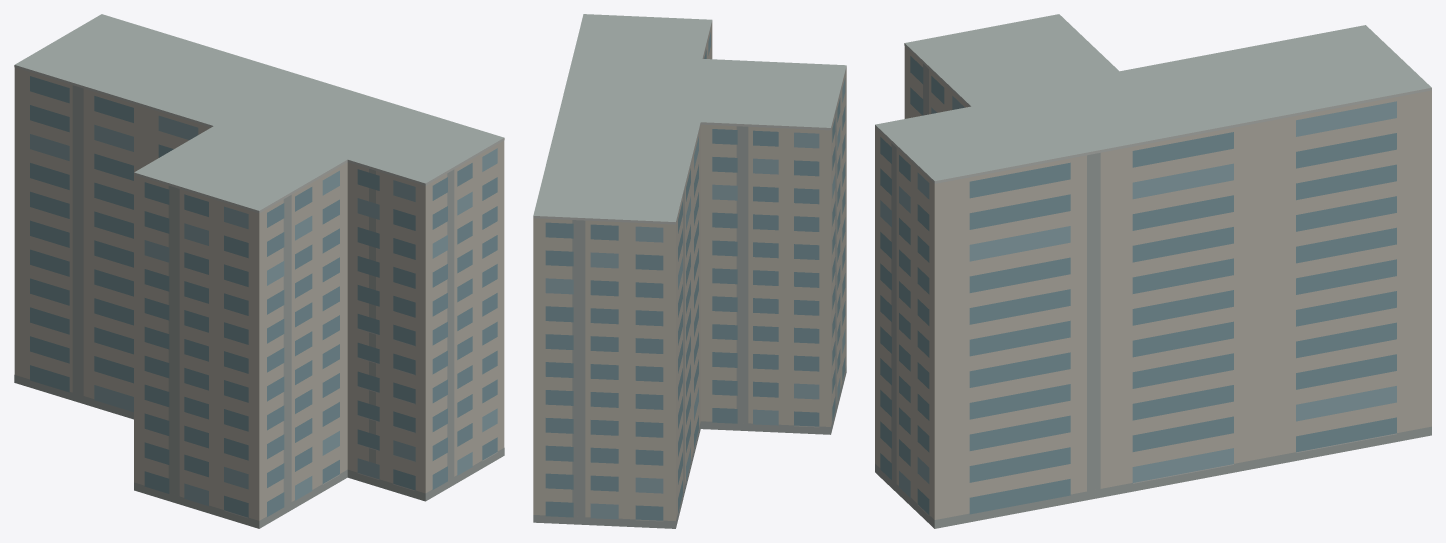
The model's file is residential-3763d846-9574-4ece-a881-51b40a4599d6.glb.
The picture shows the model from 3 angles, left to right: view 1: azimuth 30°, elevation 25°; view 2: azimuth 150°, elevation 25°; view 3: azimuth 270°, elevation 25°; orthographic projection. The views are drawn at different scales.
Parts seen in each view (by area): view 1: residential-3763d846-9574-4ece-a881-51b40a4599d6.tmp; view 2: residential-3763d846-9574-4ece-a881-51b40a4599d6.tmp; view 3: residential-3763d846-9574-4ece-a881-51b40a4599d6.tmp.
Part boxes in pixels (x1,y1,x2,y2): residential-3763d846-9574-4ece-a881-51b40a4599d6.tmp: (14, 14, 504, 528); residential-3763d846-9574-4ece-a881-51b40a4599d6.tmp: (533, 14, 846, 528); residential-3763d846-9574-4ece-a881-51b40a4599d6.tmp: (875, 14, 1431, 528).
Bounding box in the file's own units: 31.98 × 31 × 45.01.
